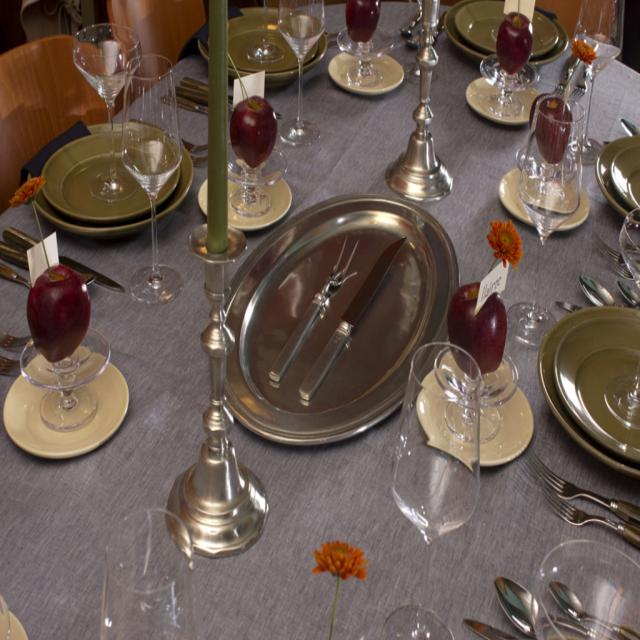Healty Apple: (443, 281, 508, 380), (28, 268, 89, 369), (229, 96, 279, 164), (534, 98, 575, 161), (494, 9, 532, 74), (347, 0, 382, 41)
